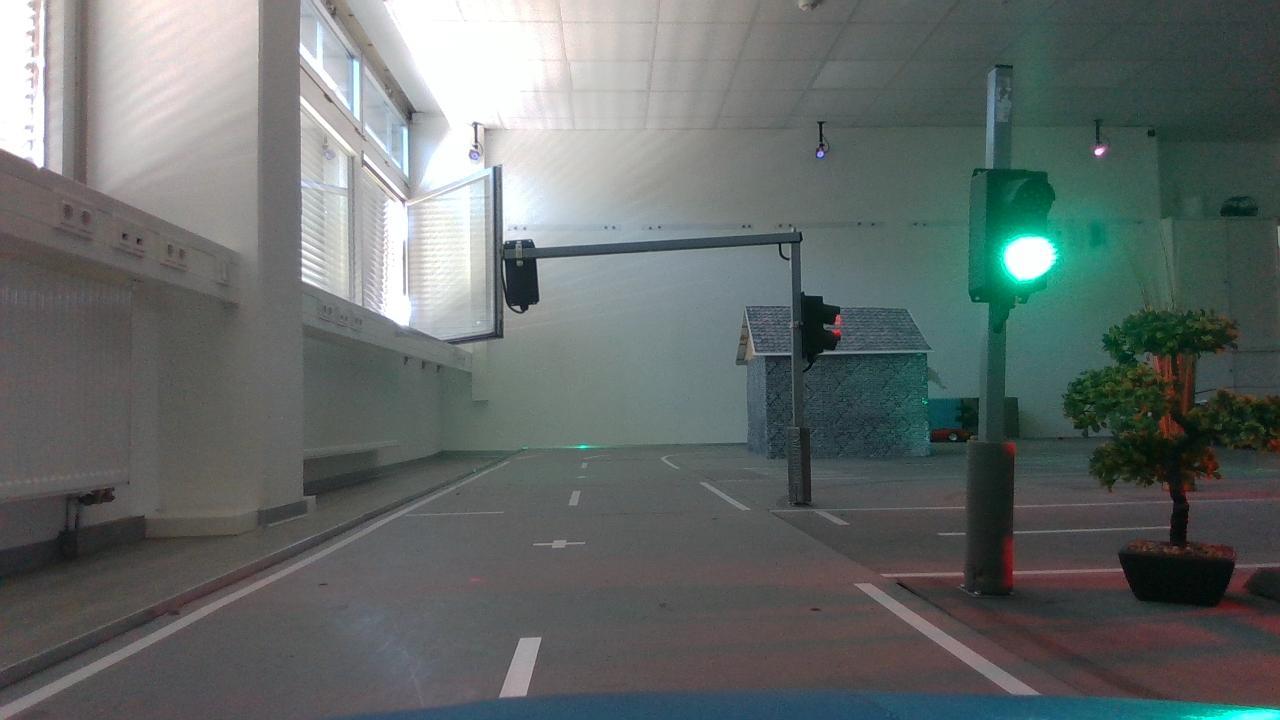traffic_light_green: (949, 155, 1074, 319)
